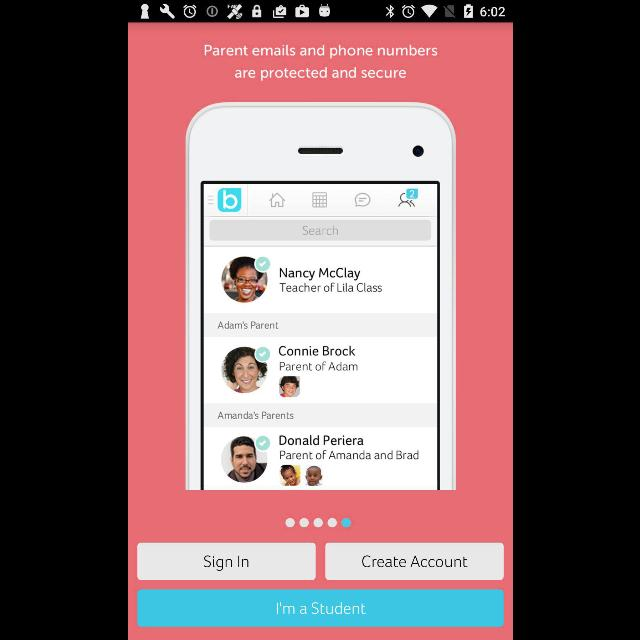image: (184, 102, 456, 490)
pageindicator: (285, 518, 351, 528)
text: (203, 44, 437, 82)
textbutton: (136, 589, 504, 627), (324, 542, 503, 580), (137, 542, 316, 580)
uppertaskbar: (128, 1, 512, 23)
